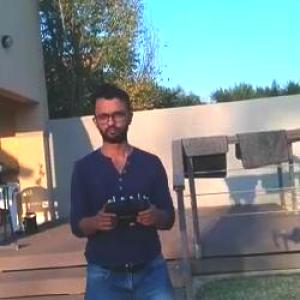follow: (60, 74, 179, 299)
